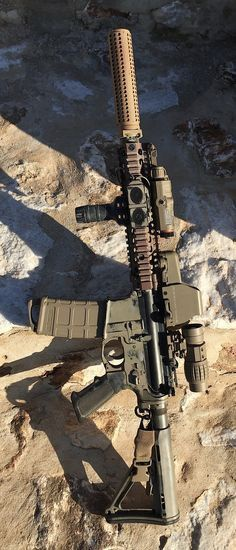ak47: (31, 30, 210, 524)
